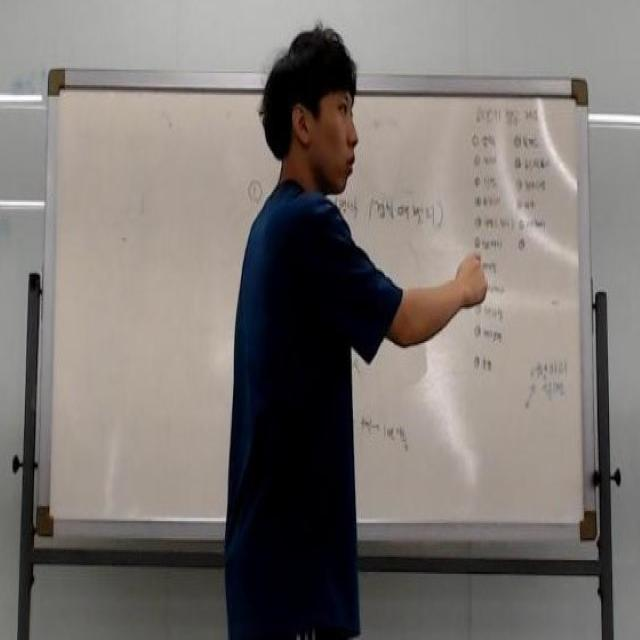Instructor: (239, 22, 384, 612)
White-board: (47, 74, 589, 530)
